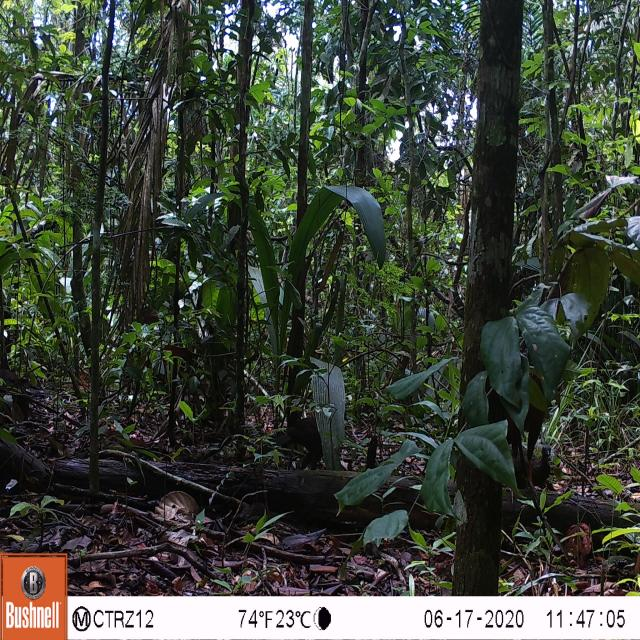Spixs Guan: (472, 259, 606, 501)
